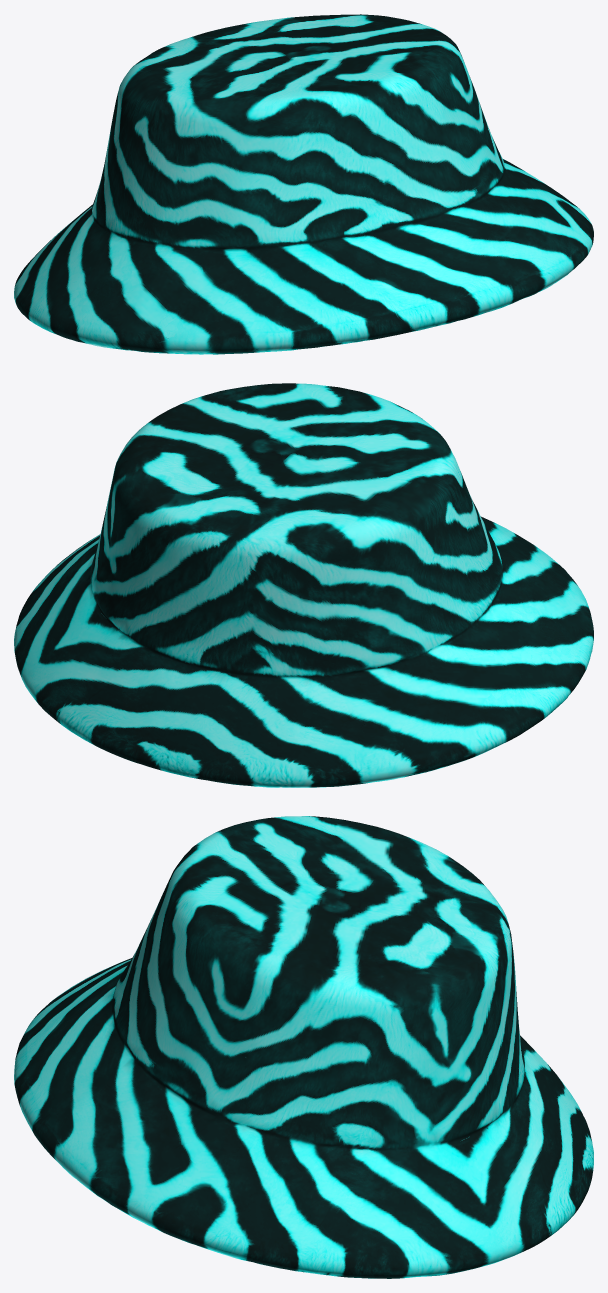
File: Fuzzy-Bucket-Stealth-Teal.glb
3 renders of one model, top to bottom at view 1: azimuth 30°, elevation 25°; view 2: azimuth 150°, elevation 25°; view 3: azimuth 270°, elevation 25°, orthographic. The views are drawn at different scales.
Visible parts, largest first — view 1: Fuzzy-Bucket-Stealth-Teal; view 2: Fuzzy-Bucket-Stealth-Teal; view 3: Fuzzy-Bucket-Stealth-Teal.
Boxes of the visible parts, <box> form: Fuzzy-Bucket-Stealth-Teal: <box>14,14,593,354</box>; Fuzzy-Bucket-Stealth-Teal: <box>14,383,593,787</box>; Fuzzy-Bucket-Stealth-Teal: <box>14,816,593,1278</box>.
Bounding box in the file's own units: 0.7047 × 0.336 × 0.5977.
1 material, 1 textured.
